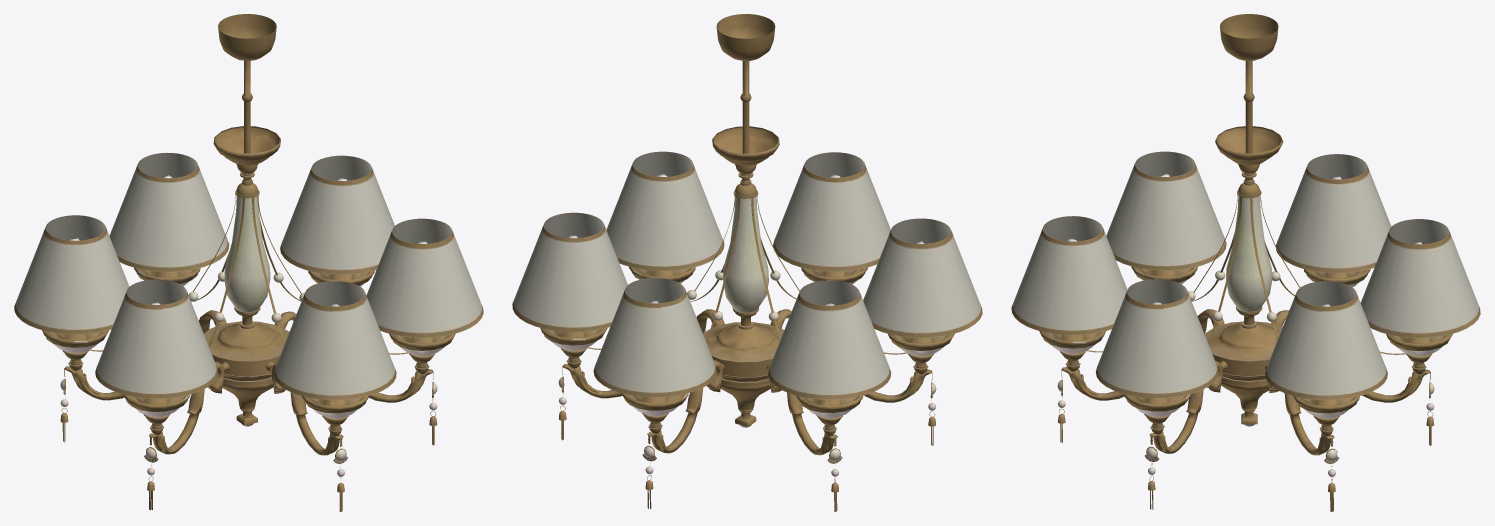
File: Chandelier_01.glb
3 renders of one model, left to right at view 1: azimuth 30°, elevation 25°; view 2: azimuth 150°, elevation 25°; view 3: azimuth 270°, elevation 25°, orthographic.
Visible parts, largest first — view 1: Chandelier_01; view 2: Chandelier_01; view 3: Chandelier_01.
Boxes of the visible parts, x1,y1,x2,y2 form: Chandelier_01: (14,14,483,511); Chandelier_01: (512,14,982,511); Chandelier_01: (1011,14,1480,511).
Bounding box in the file's own units: 0.7465 × 0.7982 × 0.8155.
Materials: 2 (1 with a texture image).
